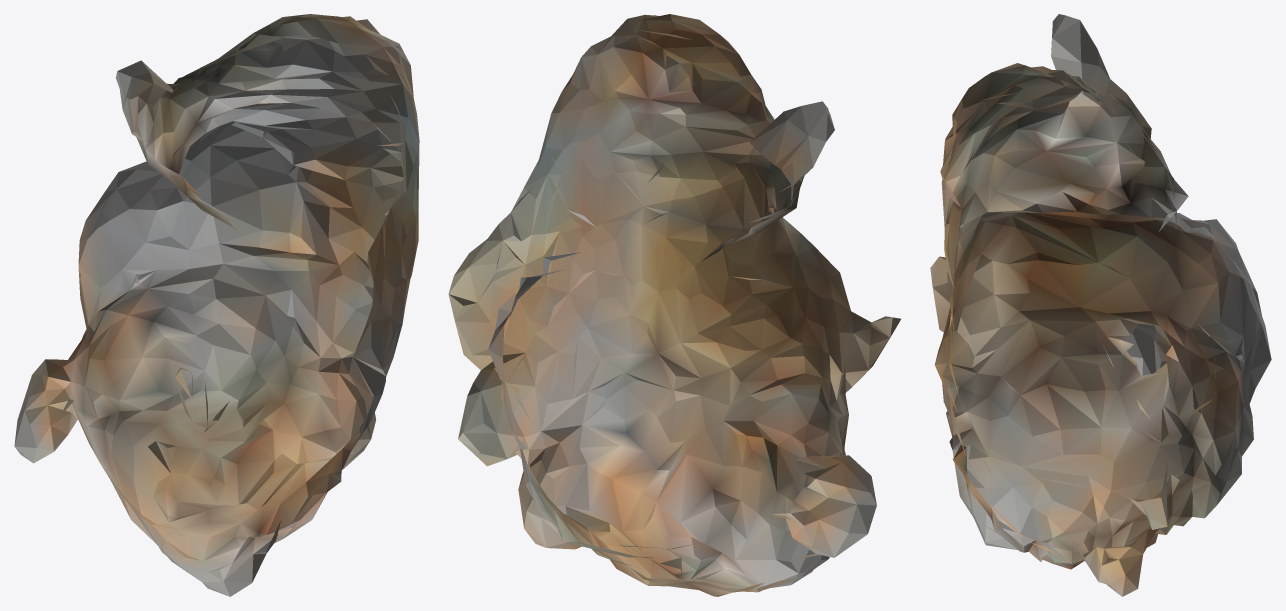
File: fish-clownfish.glb
3 views of the same model, side by side, from view 1: azimuth 30°, elevation 25°; view 2: azimuth 150°, elevation 25°; view 3: azimuth 270°, elevation 25° (orthographic). The views are drawn at different scales.
Parts seen in each view (by area): view 1: world; view 2: world; view 3: world.
Part boxes in pixels (box(x1,y1,x2,y2)): world: box(14, 14, 419, 596); world: box(448, 14, 900, 596); world: box(930, 14, 1271, 596).
Bounding box in the file's own units: 0.8 × 1.01 × 0.5955.
